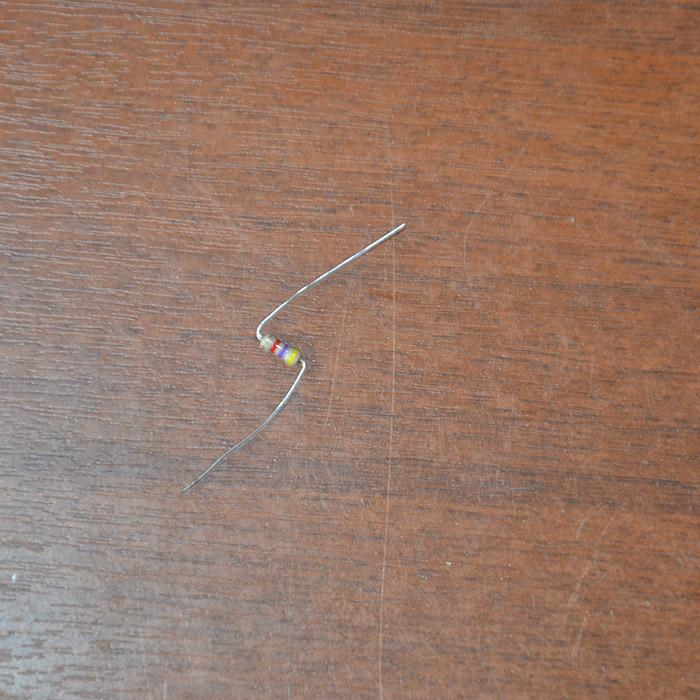resistor: (259, 334, 303, 367)
